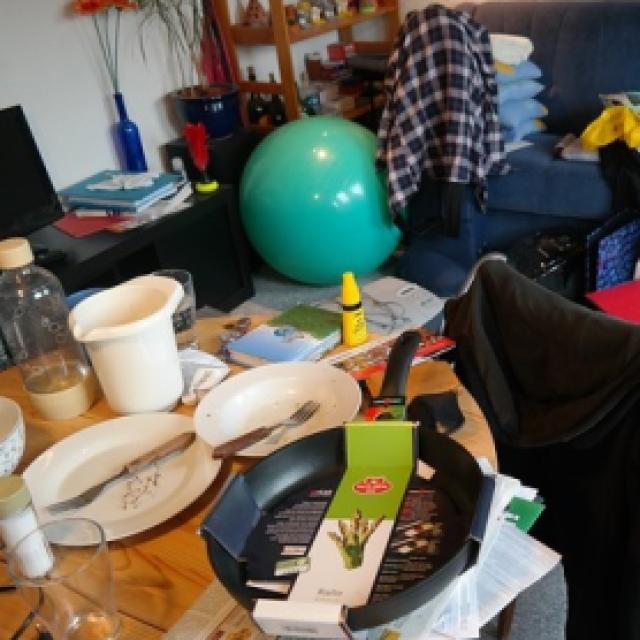scattered-items: (0, 258, 449, 640)
